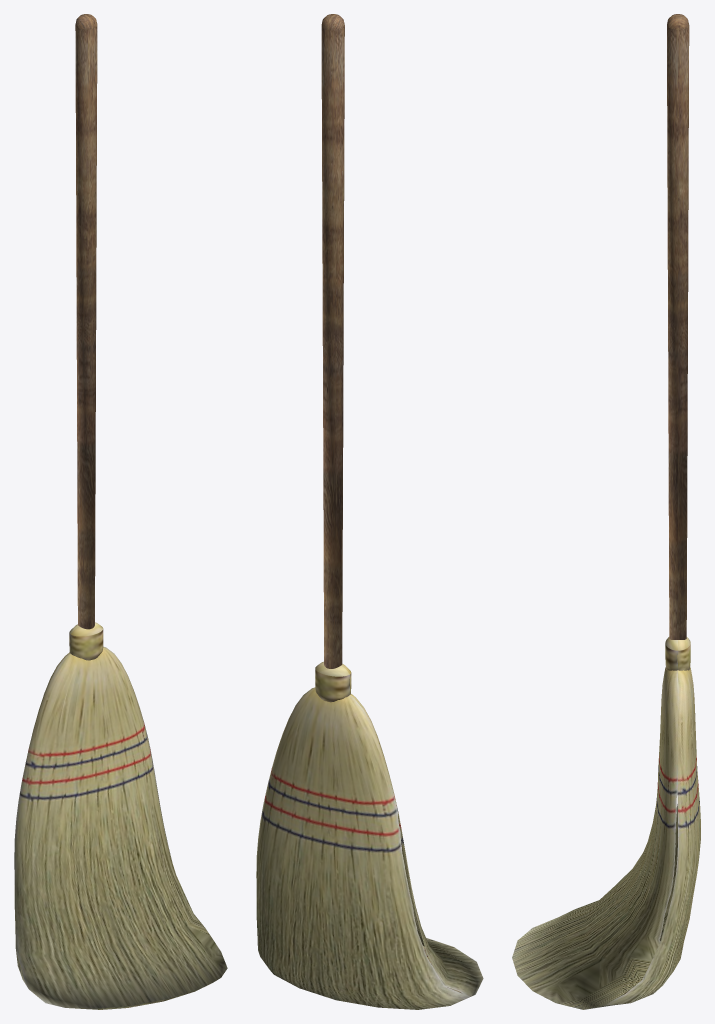
File: Broom.fbx
3 renders of one model, left to right at view 1: azimuth 30°, elevation 25°; view 2: azimuth 150°, elevation 25°; view 3: azimuth 270°, elevation 25°, orthographic. The views are drawn at different scales.
Visible parts, largest first — view 1: Broom; view 2: Broom; view 3: Broom.
Part boxes in pixels (bbox=[...]): Broom: bbox=[14, 14, 227, 1009]; Broom: bbox=[256, 14, 483, 1009]; Broom: bbox=[512, 14, 700, 1009].
Size of the model in its own units: 61.5 by 294 by 52.82.
Materials: 1 (1 with a texture image).
